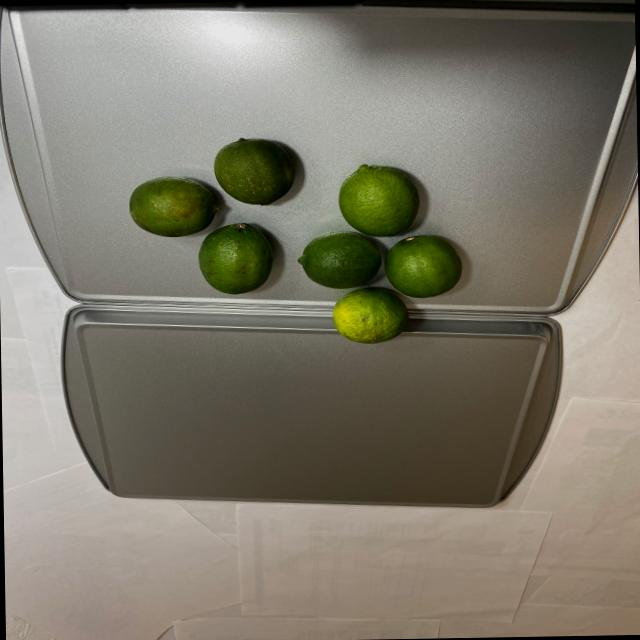lemon: (123, 136, 460, 348)
